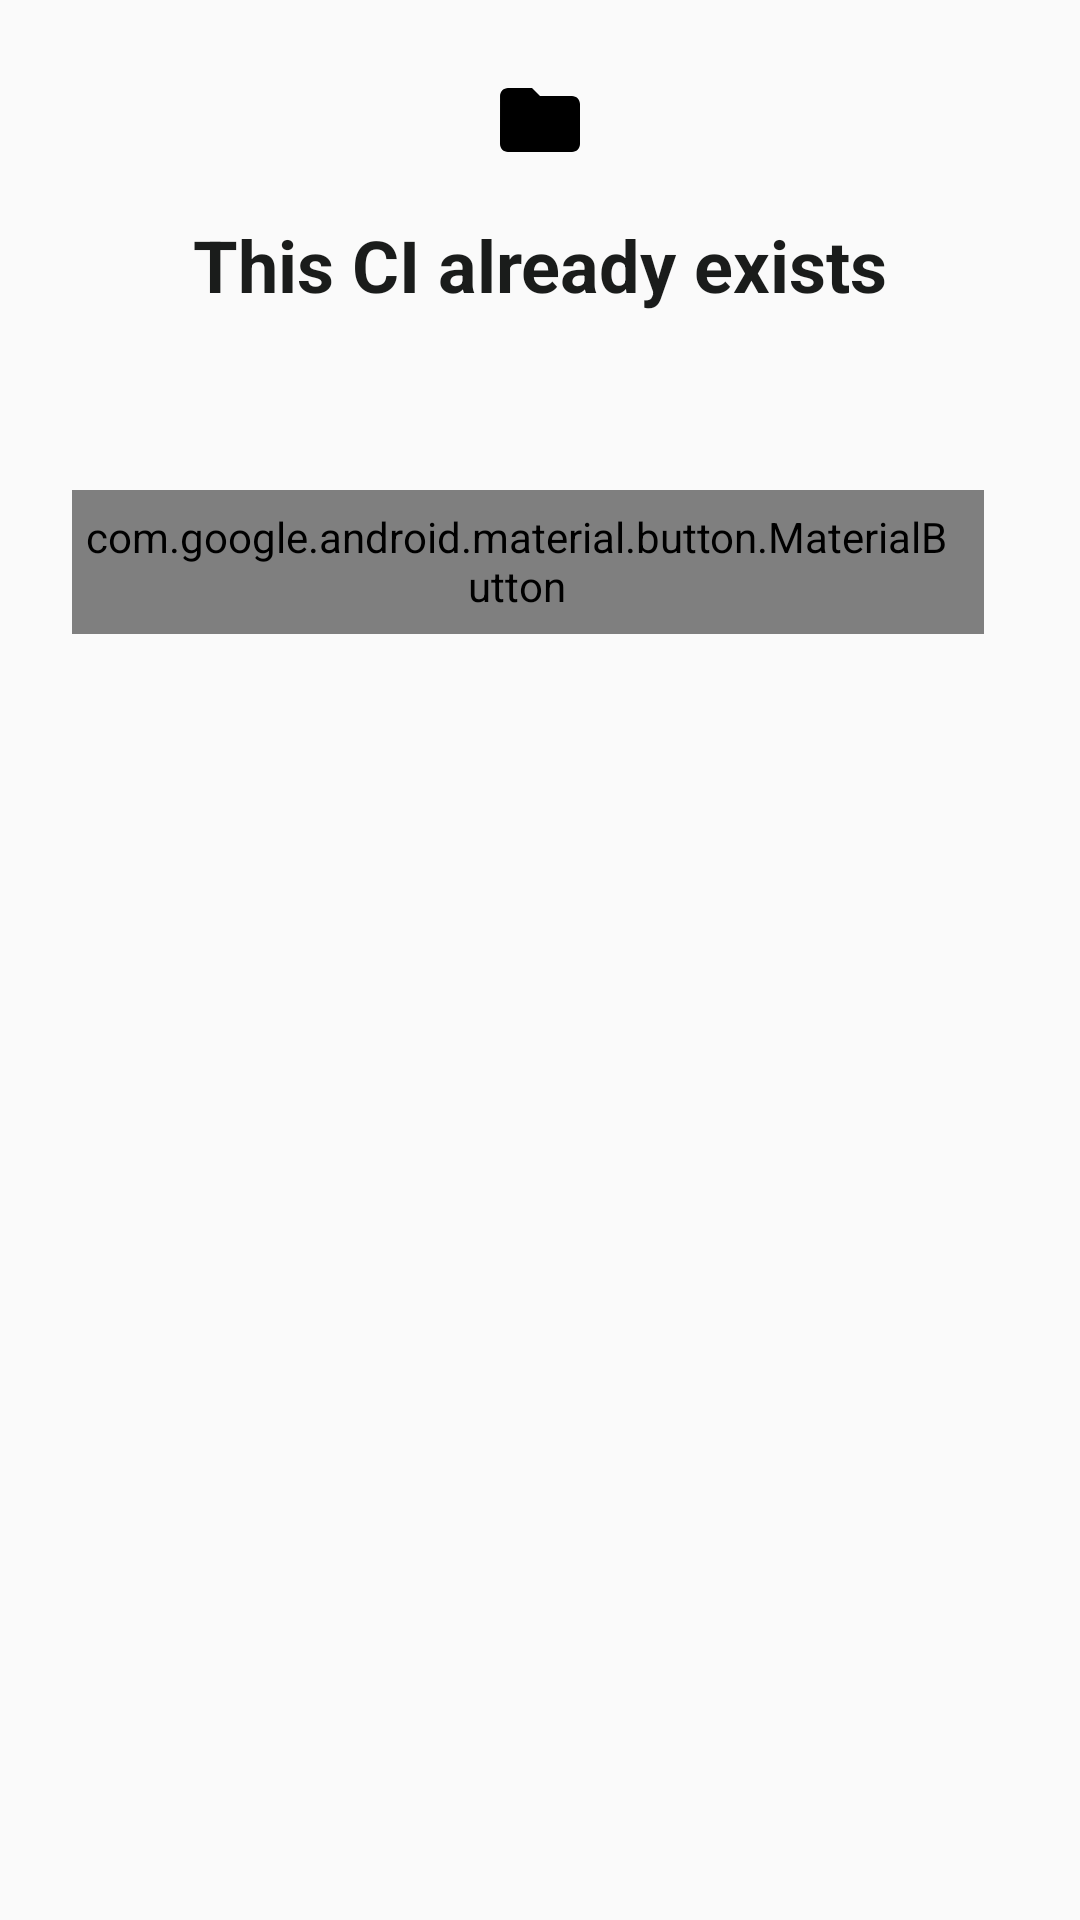

Named icons in this screenshot (1080×1920) and their centers, [x,y]:
folder: [540,120]
